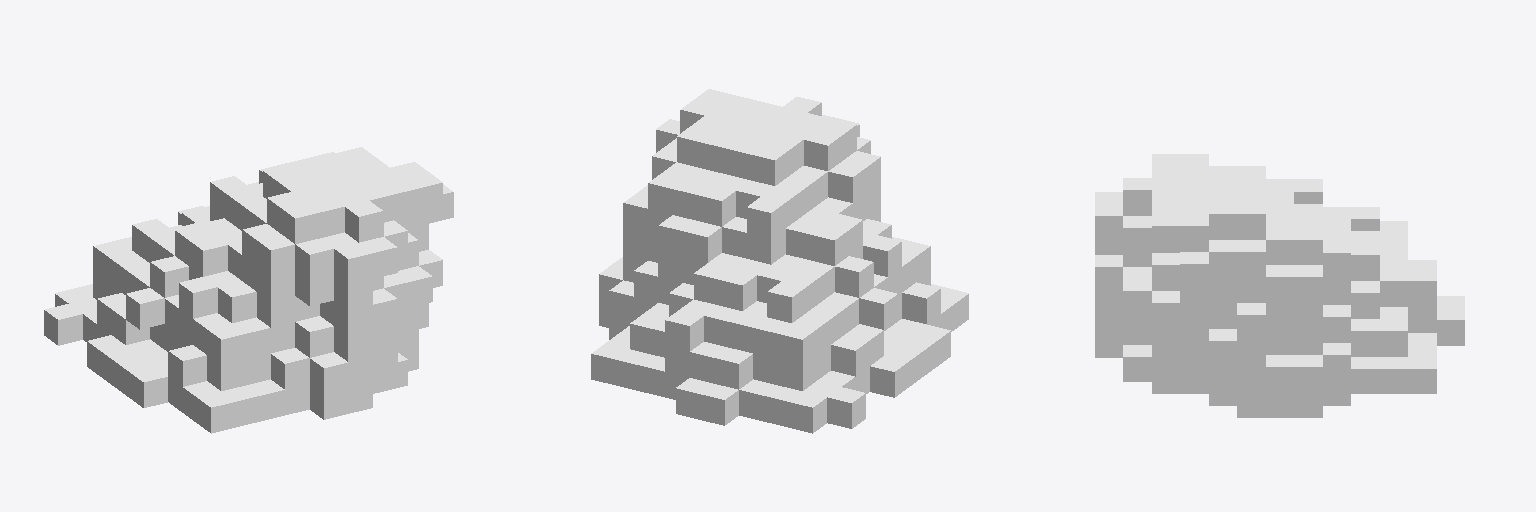
The model's file is Rock-1.obj.
3 views of the same model, side by side, from view 1: azimuth 30°, elevation 25°; view 2: azimuth 150°, elevation 25°; view 3: azimuth 270°, elevation 25° (orthographic).
Visible parts, largest first — view 1: object 1; view 2: object 1; view 3: object 1.
Part boxes in pixels (left/top/right/bottom): object 1: left=44, top=147, right=453, bottom=433; object 1: left=591, top=89, right=968, bottom=433; object 1: left=1095, top=154, right=1464, bottom=417.
Size of the model in its own units: 1.2 by 0.7 by 1.3.